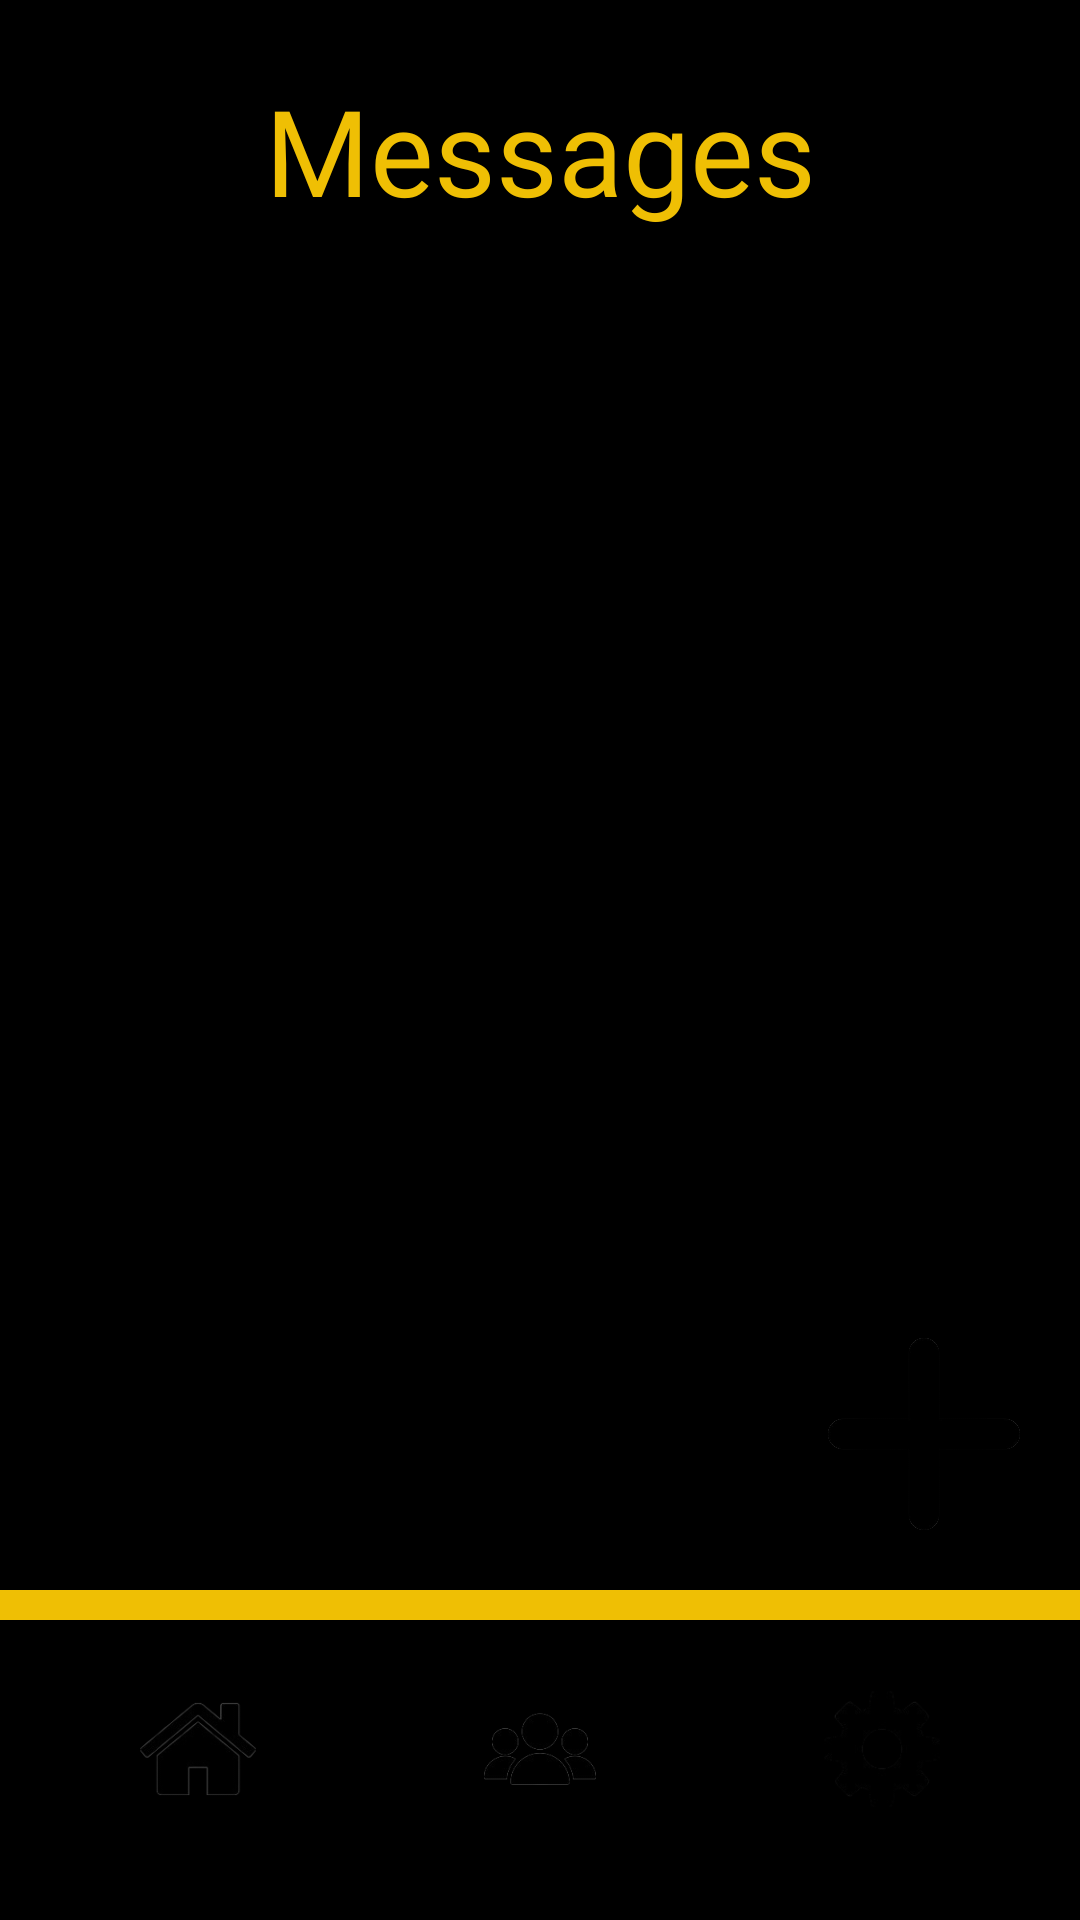

Icons on this 1080 × 1920 Android screen, each with its box as bbox=(x1, y1, x2, y2):
house: bbox=(140, 1703, 256, 1795)
staff: bbox=(484, 1713, 596, 1785)
